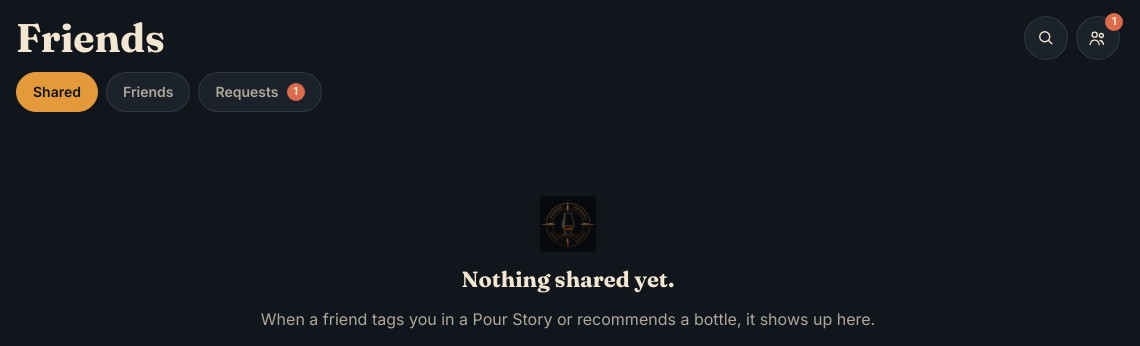
Test: FriendsPage › switches between Incoming and Outgoing on the Requests tab
Click the tab "Requests 1": (260, 92) [198, 72, 322, 112]
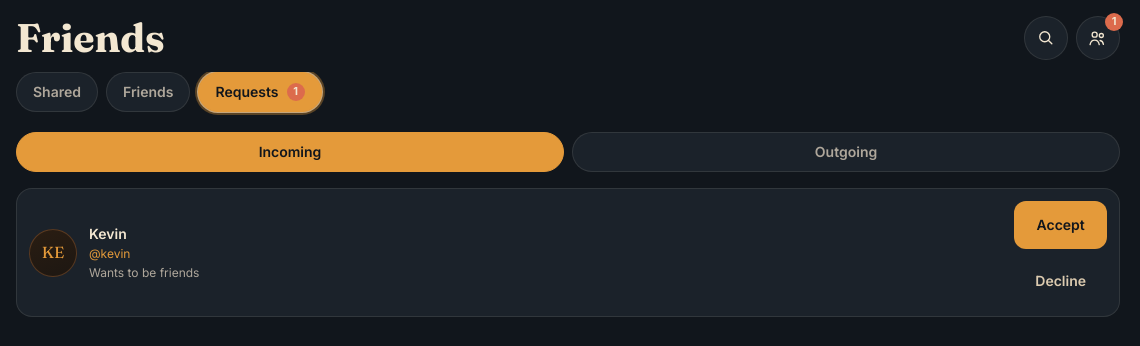
Now the text "Kevin" is shown, box [89, 225, 127, 242]
Click the tab "Outgoing": (846, 152) [572, 132, 1120, 172]
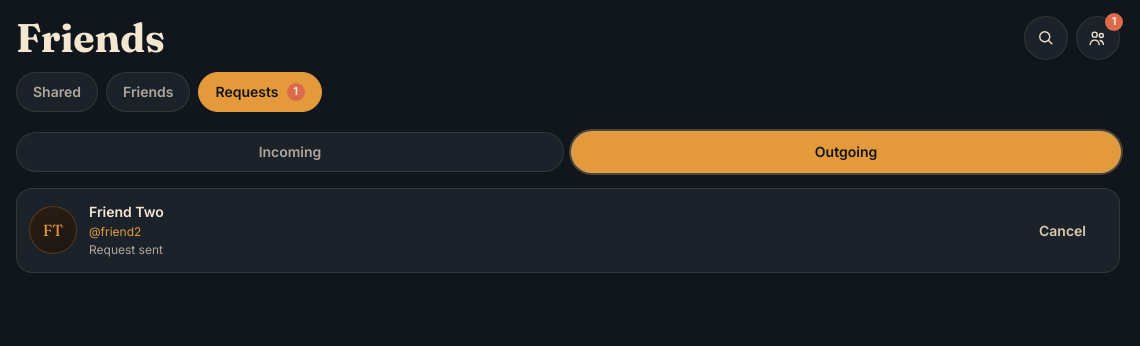
Now the text "Kevin" is gone
